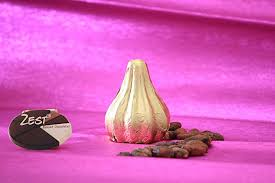modak: (93, 54, 177, 141)
